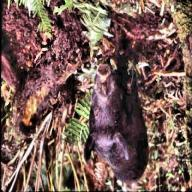boar: (72, 27, 158, 189)
